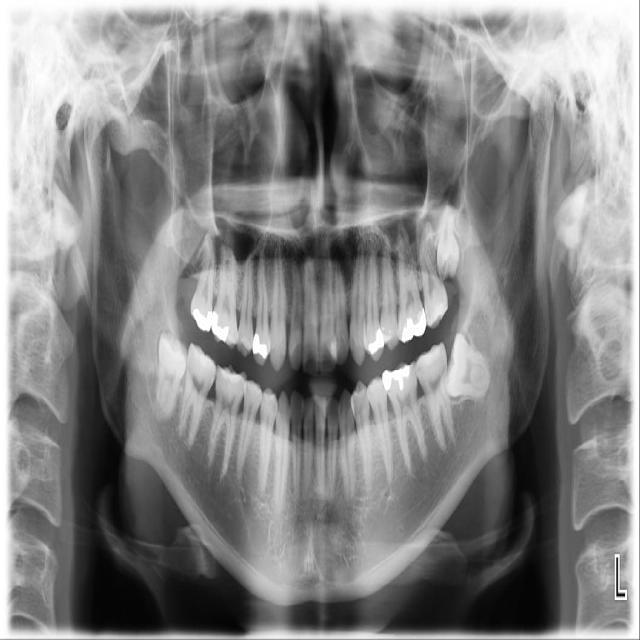Filling: (398, 306, 428, 342), (381, 363, 416, 392), (210, 311, 231, 341), (366, 327, 385, 357), (191, 308, 213, 331), (251, 332, 269, 360), (219, 368, 244, 383), (380, 327, 395, 344)
impacted tooth: (446, 333, 492, 399), (155, 332, 187, 425), (435, 201, 460, 280)
